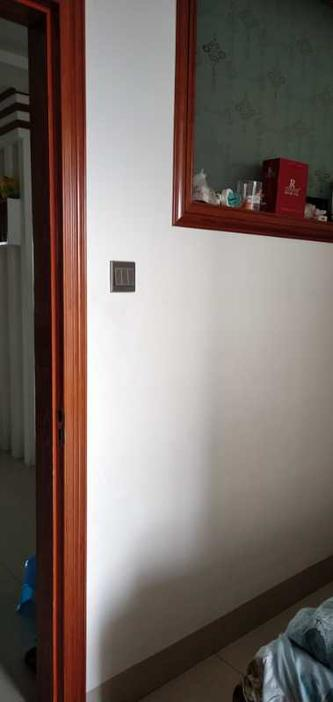switch: (115, 264, 135, 288)
